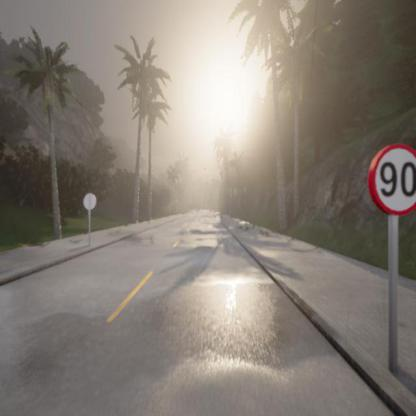traffic_sign_90: (368, 145, 415, 218)
